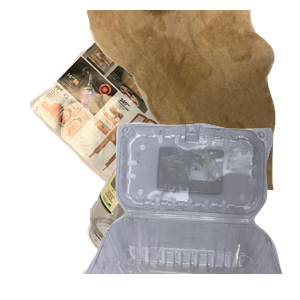glass: (85, 141, 275, 300)
paper: (27, 10, 230, 190)
plastic: (80, 120, 300, 300)
trash: (84, 10, 300, 190)
